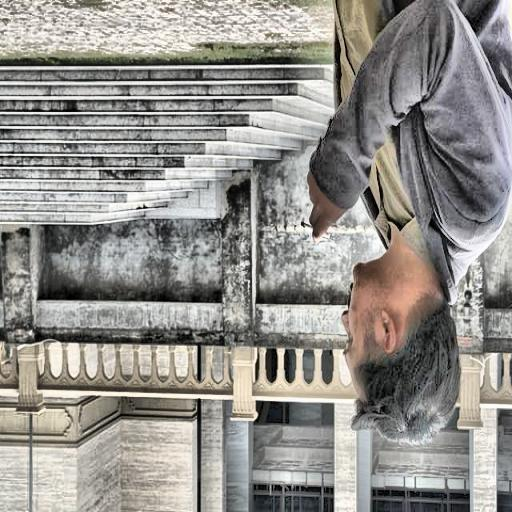Merokok: (301, 223, 313, 233), (322, 234, 329, 240)
Rokok: (342, 236, 444, 372), (303, 174, 345, 242)
